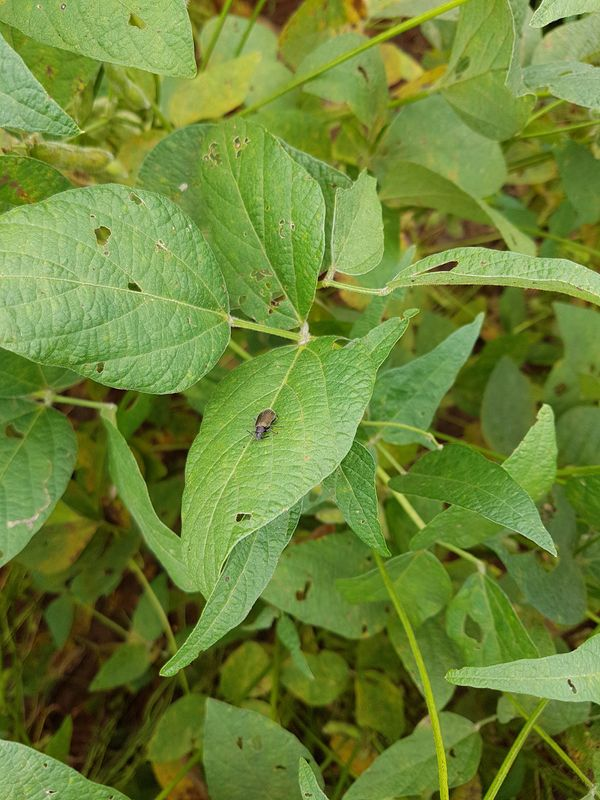Lagria_villosa: (238, 402, 292, 451)
